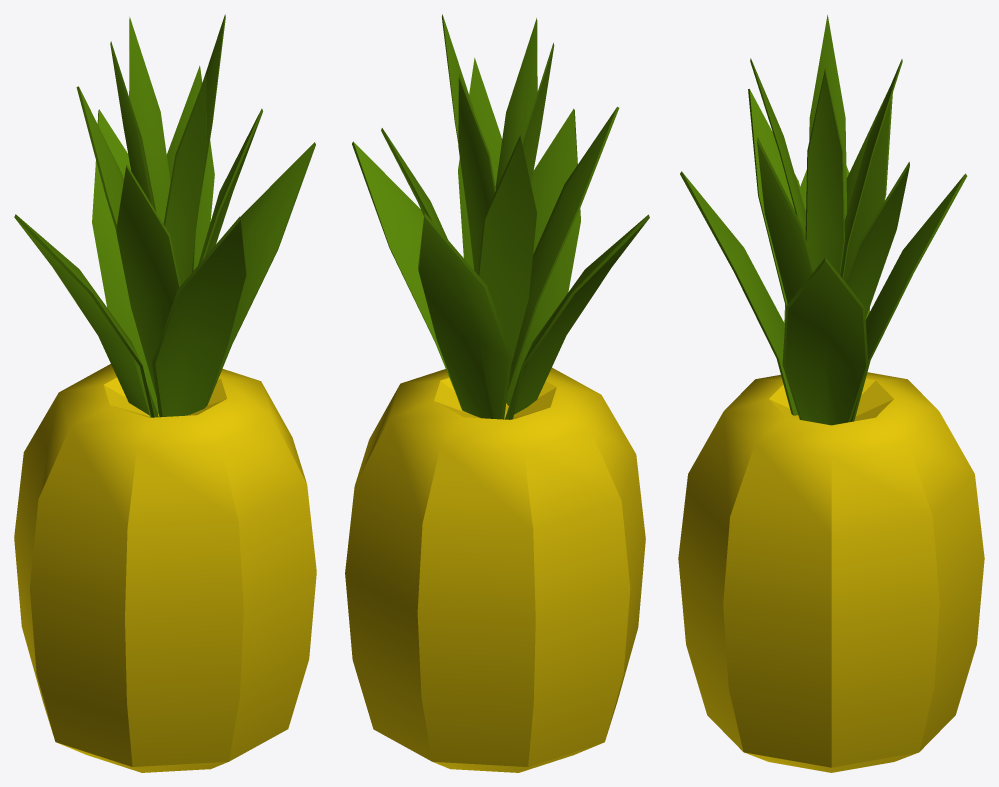
The model's file is Pineapple.fbx.
3 views of the same model, side by side, from view 1: azimuth 30°, elevation 25°; view 2: azimuth 150°, elevation 25°; view 3: azimuth 270°, elevation 25° (orthographic). The views are drawn at different scales.
Visible parts, largest first — view 1: Pineapple; view 2: Pineapple; view 3: Pineapple.
Boxes of the visible parts, x1,y1,x2,y2 form: Pineapple: (14,14,316,772); Pineapple: (345,14,649,772); Pineapple: (678,15,984,772).
Bounding box in the file's own units: 13.44 × 30.31 × 12.12.
